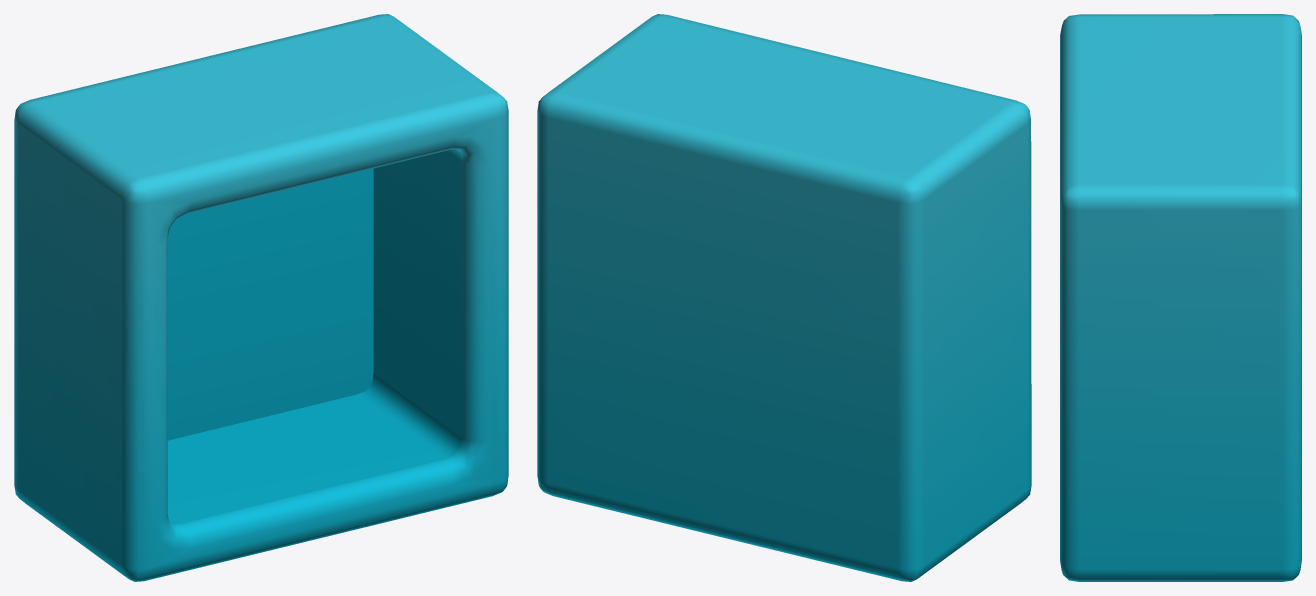
File: Shelf_07.glb
3 views of the same model, side by side, from view 1: azimuth 30°, elevation 25°; view 2: azimuth 150°, elevation 25°; view 3: azimuth 270°, elevation 25° (orthographic).
Parts seen in each view (by area): view 1: Shelf_07; view 2: Shelf_07; view 3: Shelf_07.
Part boxes in pixels (x1=…): Shelf_07: x1=14, y1=14, x2=508, y2=581; Shelf_07: x1=537, y1=14, x2=1031, y2=581; Shelf_07: x1=1060, y1=14, x2=1301, y2=581.
Bounding box in the file's own units: 0.45 × 0.45 × 0.25.
Materials: 1 (1 with a texture image).
